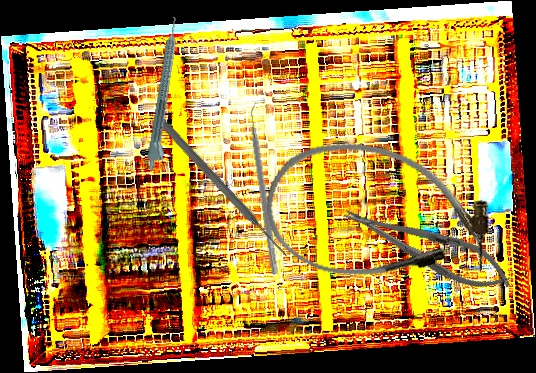Cannula: (255, 128, 501, 302)
Handpiece: (145, 16, 187, 172)
Needle Holder: (336, 191, 520, 303)
Pusher: (154, 115, 292, 261)
Spatula Surgical: (244, 100, 286, 276)
